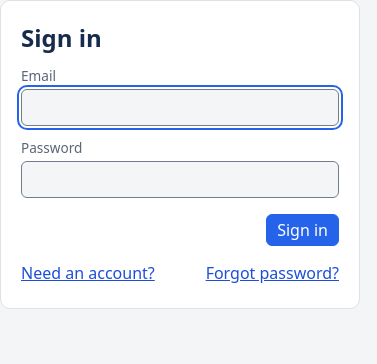
Test: signing in › never leaves the button stuck disabled when the network fails
Type "ana@example.com" into the field labelled "Email" at (180, 108), box [21,89,339,126]
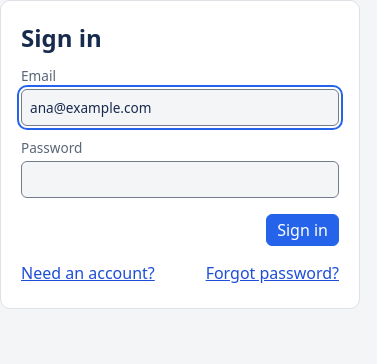
Type "secret123" into the password field labelled "Password" at (180, 180), box [21,161,339,198]
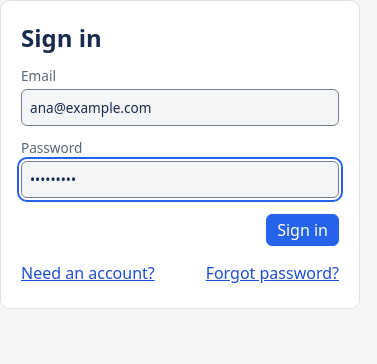
Click the button "Sign in" at (303, 230), box [266,214,339,246]
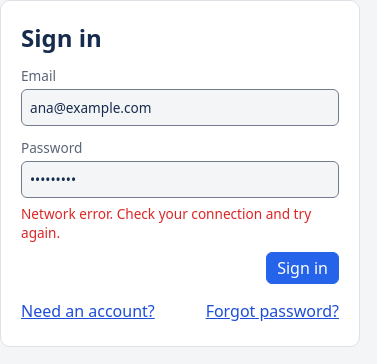
Check: the button "Sign in" is enabled, box [266,252,339,284]
Check: the message reads "Network error. Check your connection and try again.", box [21,204,311,242]
